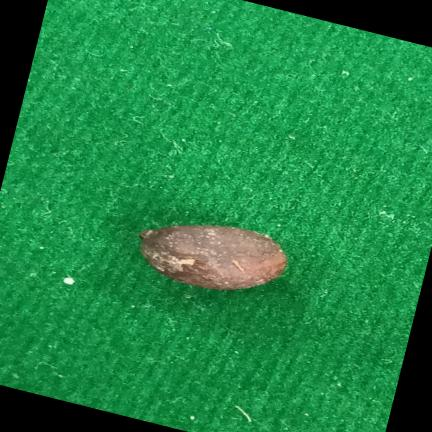full-black: (139, 225, 286, 289)
